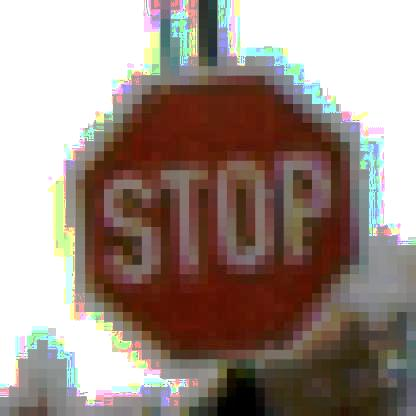Stop Sign: (72, 55, 373, 364)
